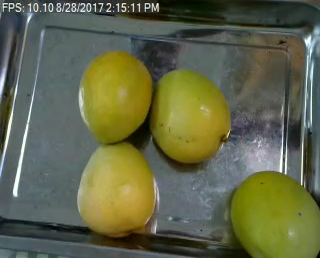Mango: (231, 169, 320, 258), (150, 68, 232, 162), (77, 142, 155, 231), (77, 51, 153, 142)
